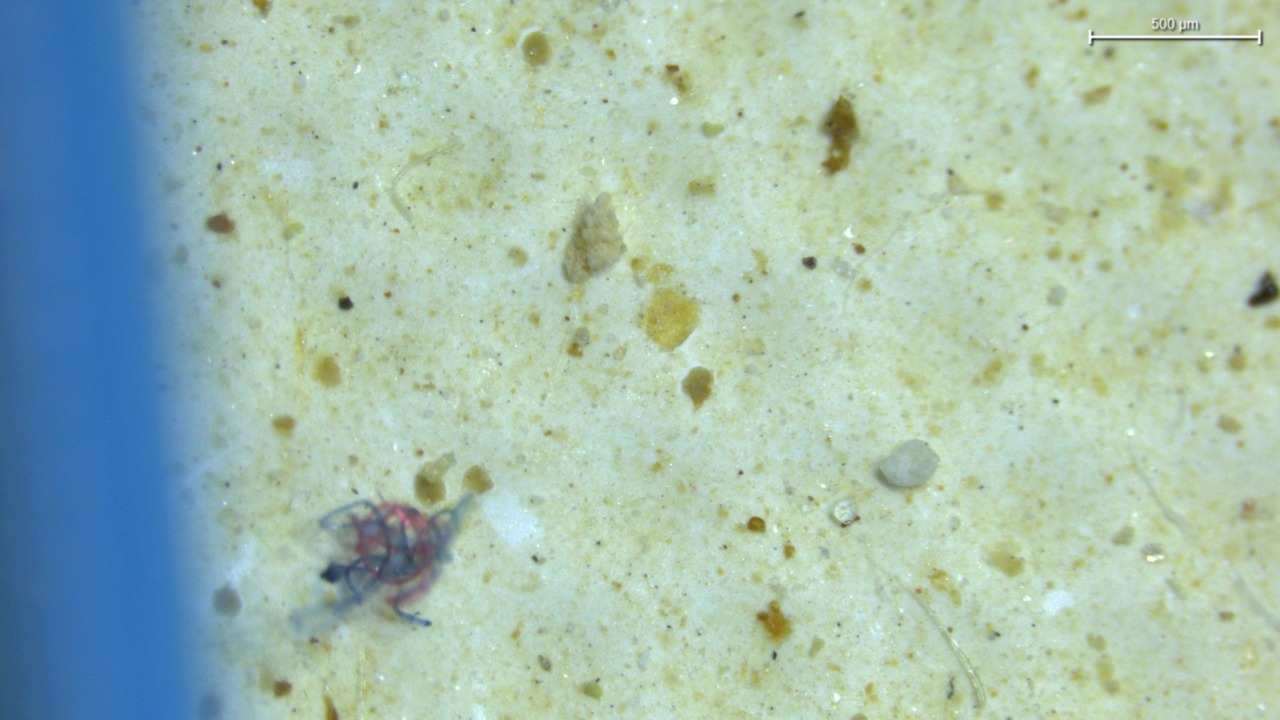microplastic_fragment: (562, 193, 625, 283), (876, 439, 940, 487)
